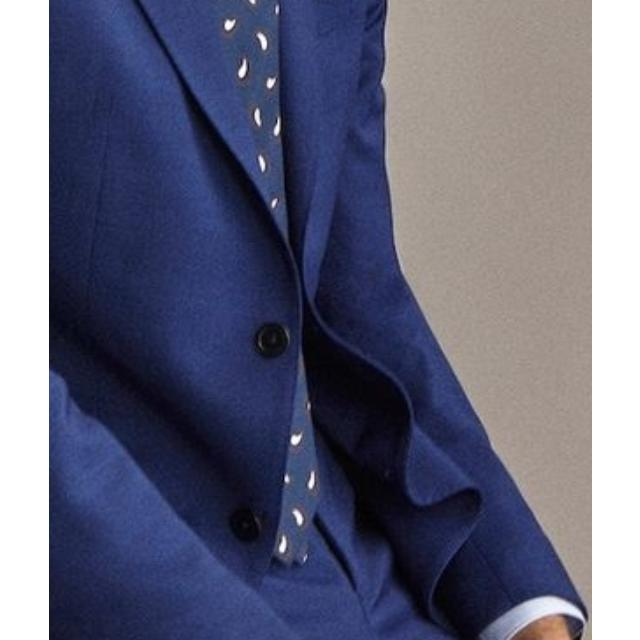wool: (49, 0, 592, 640)
